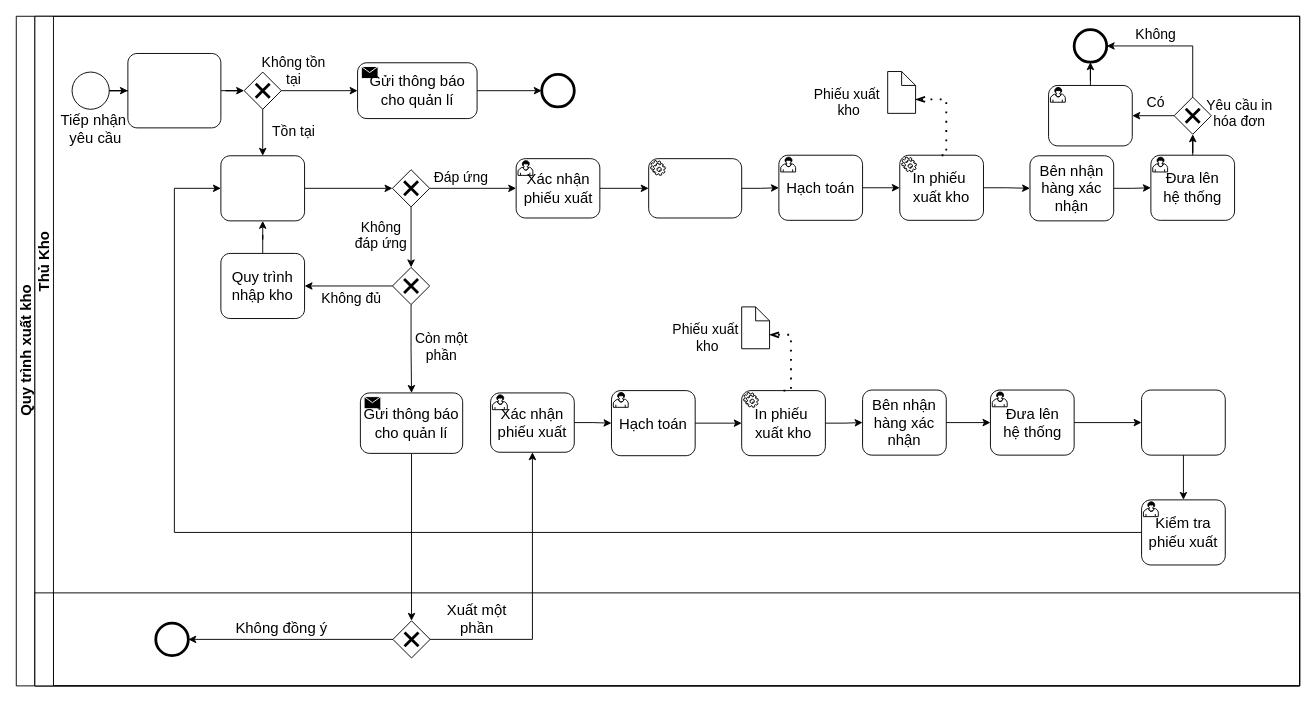
Some shapes in this 1316 by 702 pixel diagram are drawn without their labels. The box of each missing label's shape, as (x1, y1, x2, y2) in pixels:
Chờ đủ hàng: (1141, 389, 1225, 455)
Kiểm tra hàng tồn kho: (220, 155, 305, 221)
Kiểm tra phiếu xuất kho: (127, 53, 221, 128)
Quản lí: (34, 592, 1300, 686)
Tạo và chọn lô xuất: (648, 158, 742, 218)
Xác nhận: (1048, 85, 1132, 146)
